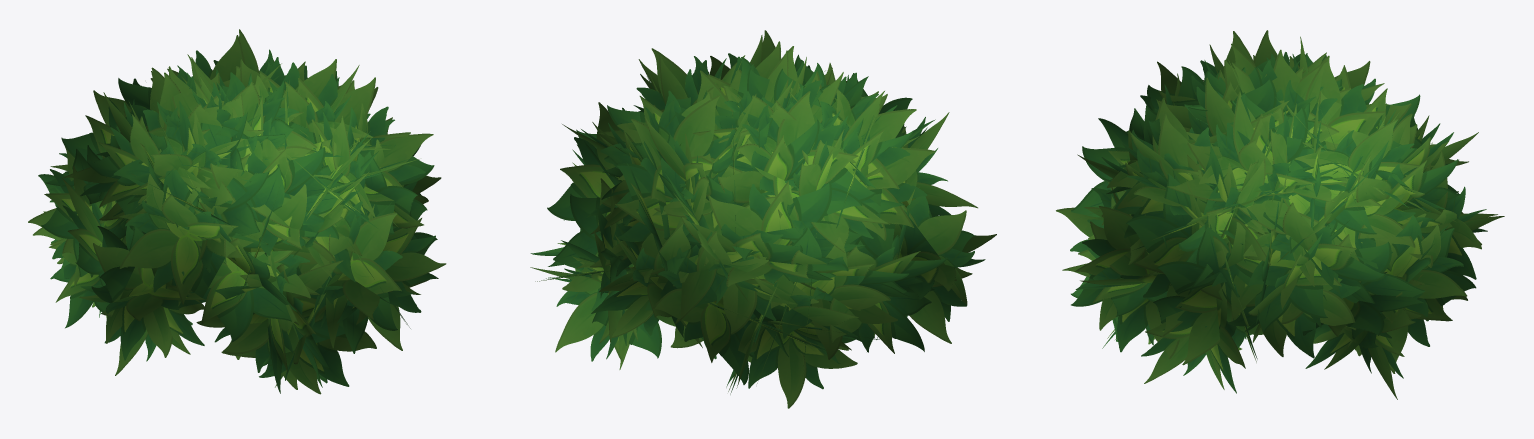
Rendered from BushModel.fbx.
3 renders of one model, left to right at view 1: azimuth 30°, elevation 25°; view 2: azimuth 150°, elevation 25°; view 3: azimuth 270°, elevation 25°, orthographic. The views are drawn at different scales.
Parts seen in each view (by area): view 1: Bush; view 2: Bush; view 3: Bush.
Part boxes in pixels (bbox=[...]): Bush: bbox=[28, 29, 446, 394]; Bush: bbox=[530, 30, 996, 408]; Bush: bbox=[1056, 30, 1504, 399].
Size of the model in its own units: 2.45 by 1.86 by 2.46.
Materials: 1 (1 with a texture image).
